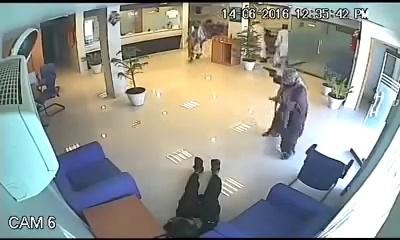weapon: (260, 64, 277, 77)
